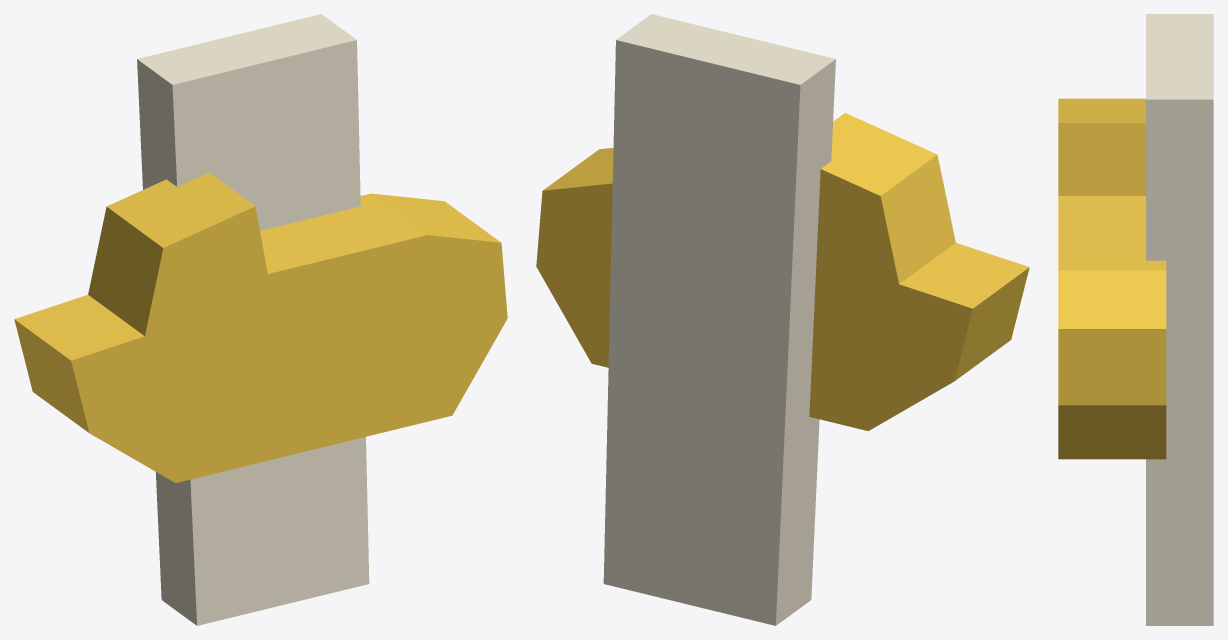
The model's file is status-grabbed.glb.
3 renders of one model, left to right at view 1: azimuth 30°, elevation 25°; view 2: azimuth 150°, elevation 25°; view 3: azimuth 270°, elevation 25°, orthographic. The views are drawn at different scales.
Visible parts, largest first — view 1: gripping-mitten, sleeve; view 2: sleeve, gripping-mitten; view 3: sleeve, gripping-mitten.
Boxes of the visible parts, <box> form: gripping-mitten: <box>14,172,507,482</box>; sleeve: <box>137,14,369,625</box>; sleeve: <box>603,14,835,625</box>; gripping-mitten: <box>536,113,1029,431</box>; sleeve: <box>1146,14,1213,625</box>; gripping-mitten: <box>1058,98,1166,459</box>.
Size of the model in its own units: 0.71 by 0.85 by 0.23.
